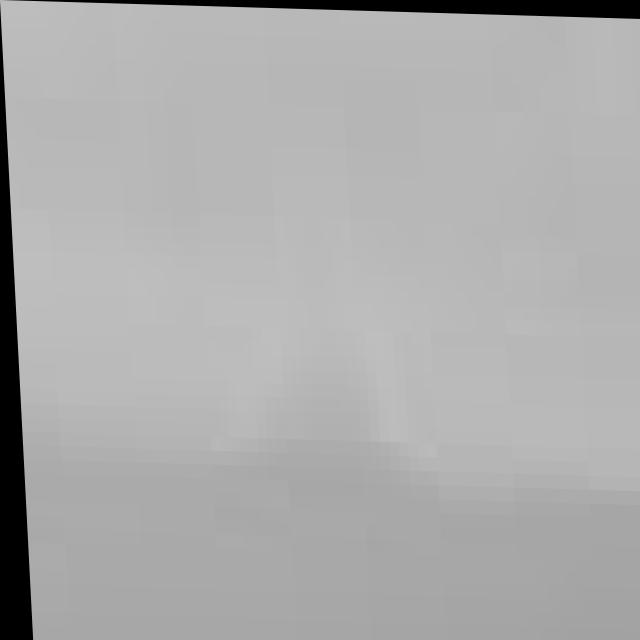fracture: (1, 9, 640, 640)
